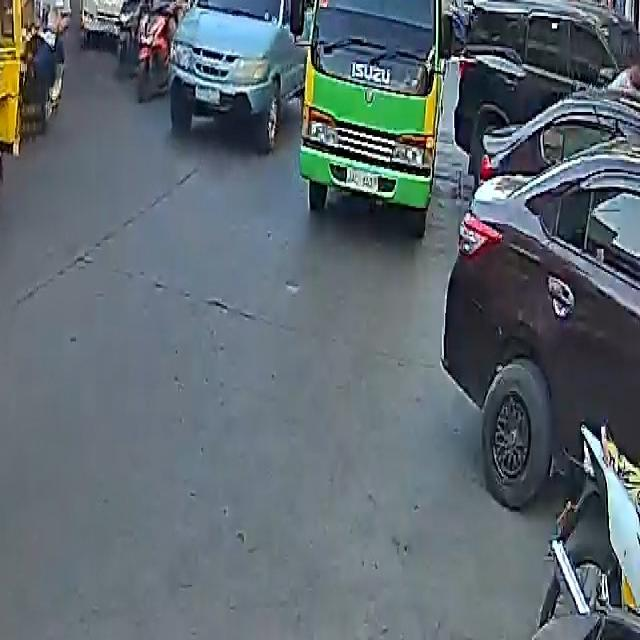car: (444, 146, 640, 518), (448, 0, 640, 174), (166, 0, 322, 155)
